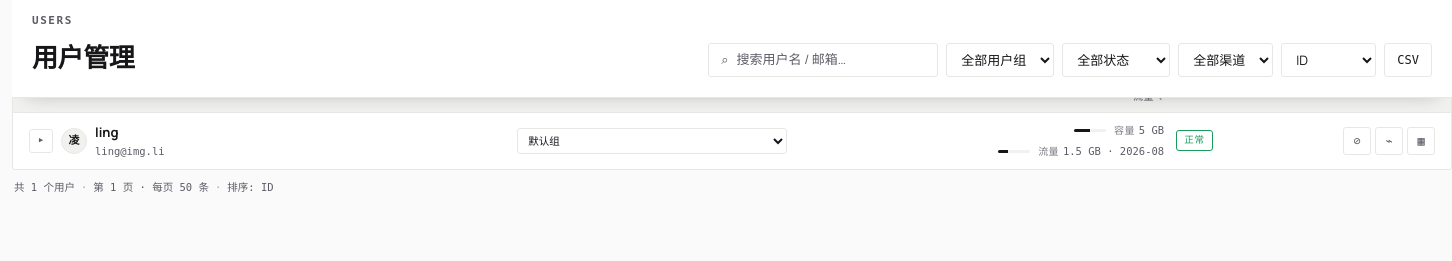
Test: 表格:行数据/组名/容量/流量/状态
This screenshot has width=1452, height=261.
Expected: the text "ling" is shown, [95, 122, 118, 140]
Expected: the text "ling@img.li" is shown, [95, 144, 164, 159]
次要字段在展开详情
Click the button named "展开详情" at (41, 141), box [29, 129, 53, 153]
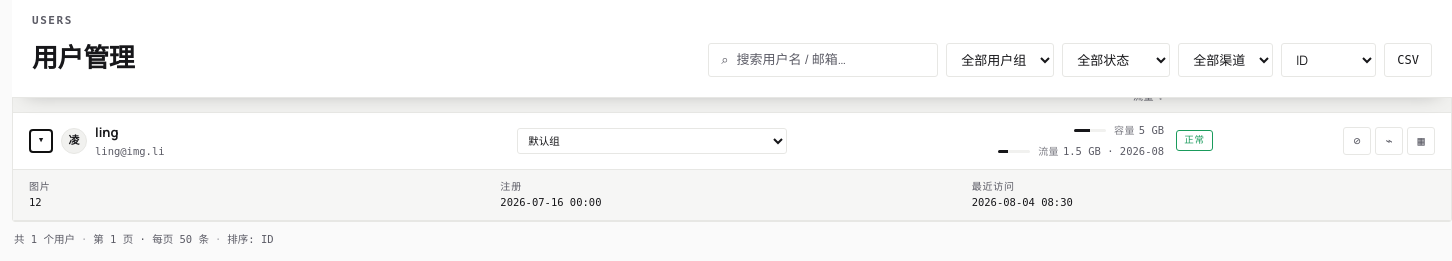
Expected: the text "12" is shown, [29, 196, 42, 208]
